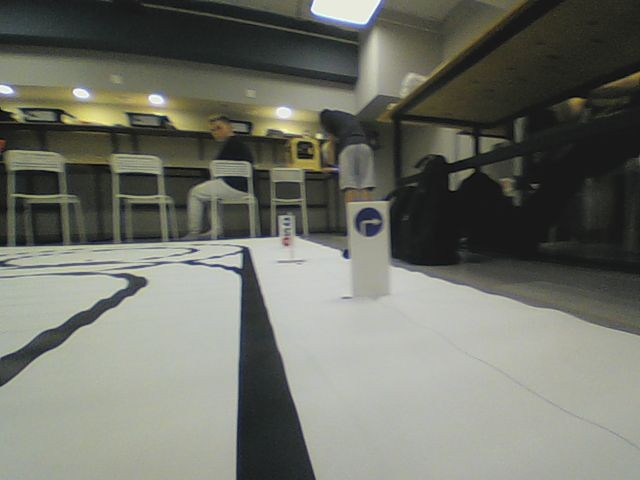Right: (352, 207, 385, 238)
